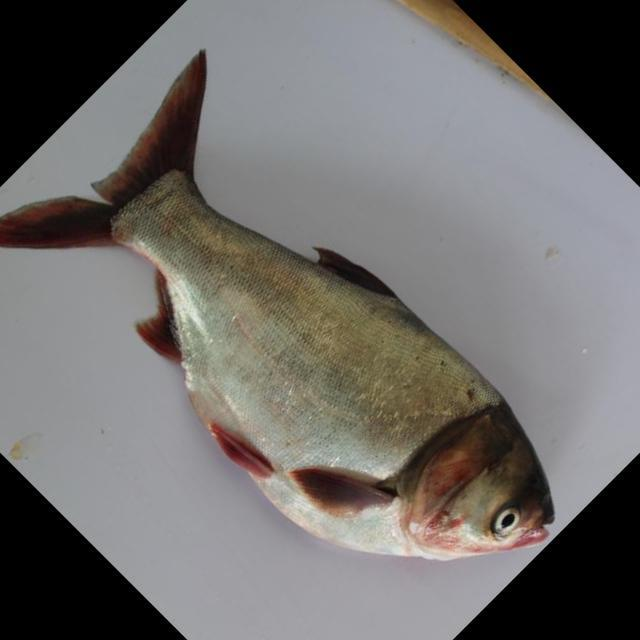SilverCarp: (14, 94, 584, 572)
